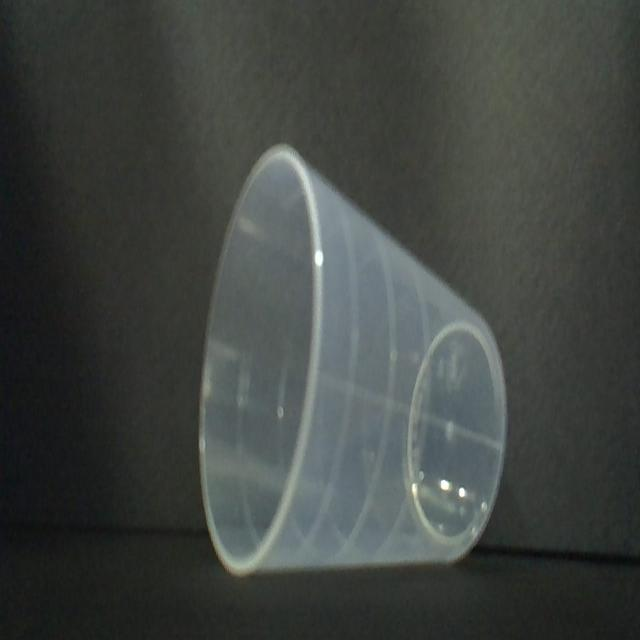cup: (196, 142, 513, 580)
